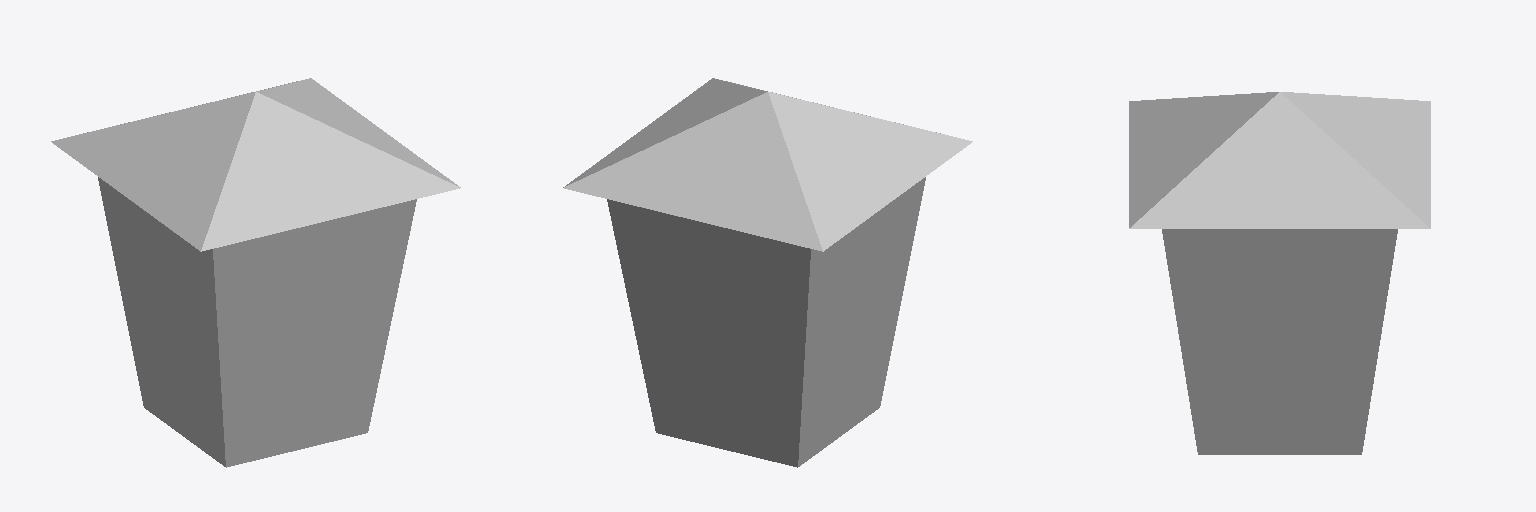
The model's file is lantern_001.obj.
3 views of the same model, side by side, from view 1: azimuth 30°, elevation 25°; view 2: azimuth 150°, elevation 25°; view 3: azimuth 270°, elevation 25° (orthographic).
Parts seen in each view (by area): view 1: lantern_001_Cube.006; view 2: lantern_001_Cube.006; view 3: lantern_001_Cube.006.
Boxes of the visible parts, <box> form: lantern_001_Cube.006: <box>51,78,460,467</box>; lantern_001_Cube.006: <box>563,78,972,467</box>; lantern_001_Cube.006: <box>1129,92,1430,454</box>.
Bounding box in the file's own units: 0.4942 × 0.5952 × 0.4942.